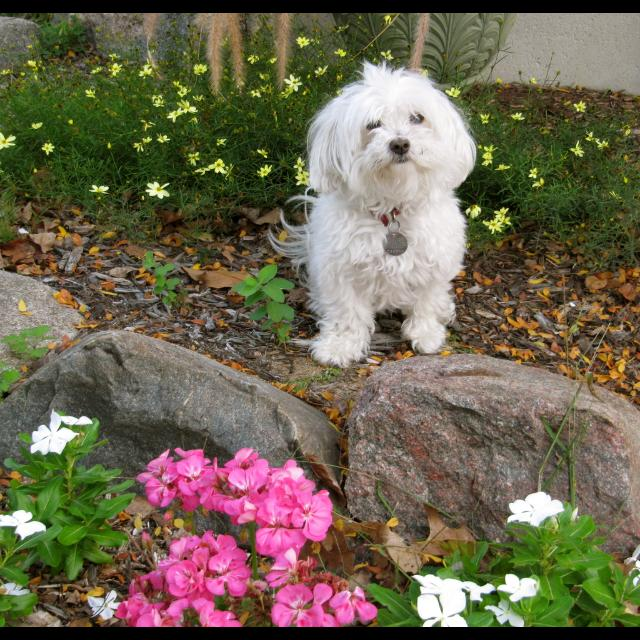Flower: (1, 28, 640, 232), (84, 301, 396, 627), (414, 491, 582, 627), (0, 406, 94, 600), (622, 538, 640, 592)
